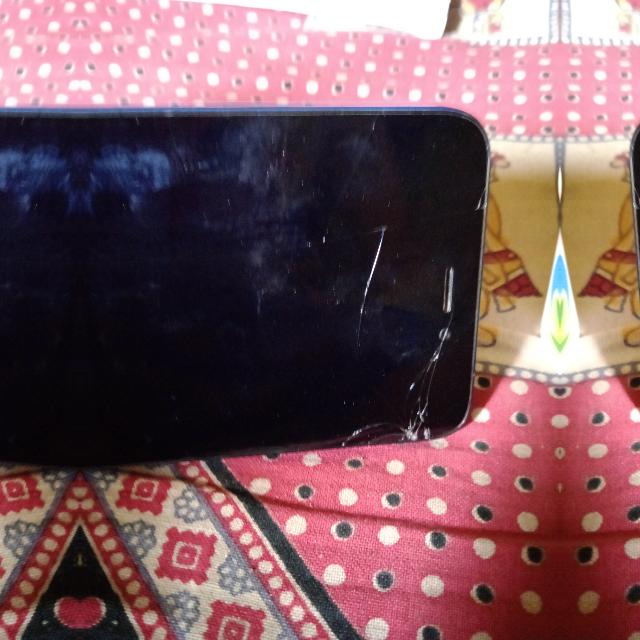phone_screen: (80, 110, 488, 465), (0, 112, 79, 465), (631, 129, 639, 269)
